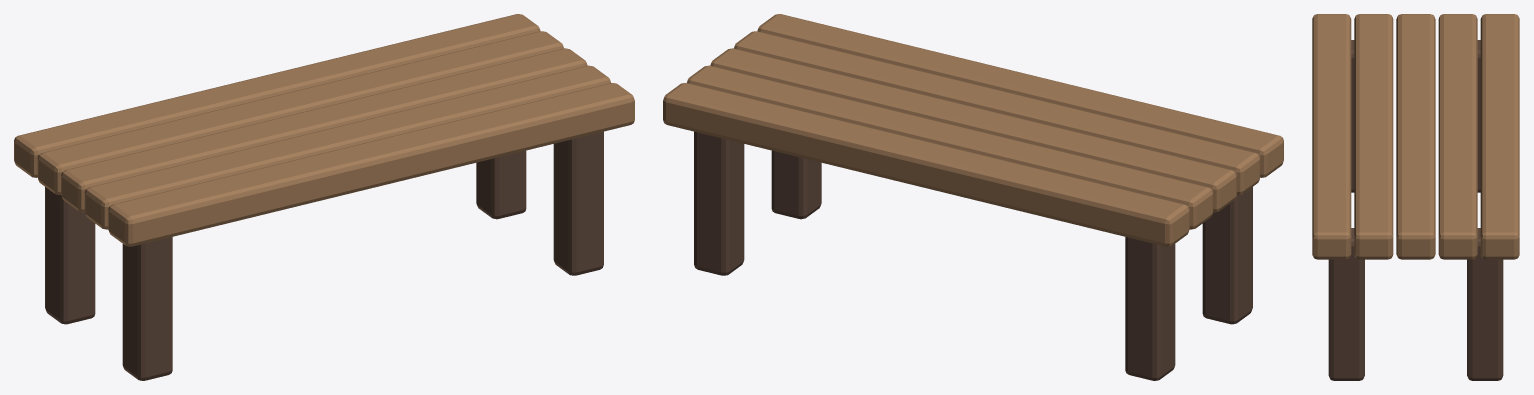
The model's file is prop_bench__attachments.glb.
The picture shows the model from 3 angles, left to right: view 1: azimuth 30°, elevation 25°; view 2: azimuth 150°, elevation 25°; view 3: azimuth 270°, elevation 25°; orthographic projection. The views are drawn at different scales.
Visible parts, largest first — view 1: prop_bench__attachments__mesh_00; view 2: prop_bench__attachments__mesh_00; view 3: prop_bench__attachments__mesh_00.
Boxes of the visible parts, x1,y1,x2,y2 form: prop_bench__attachments__mesh_00: [14, 14, 634, 380]; prop_bench__attachments__mesh_00: [663, 14, 1283, 380]; prop_bench__attachments__mesh_00: [1312, 14, 1519, 380].
Bounding box in the file's own units: 1.75 × 0.58 × 0.69.
